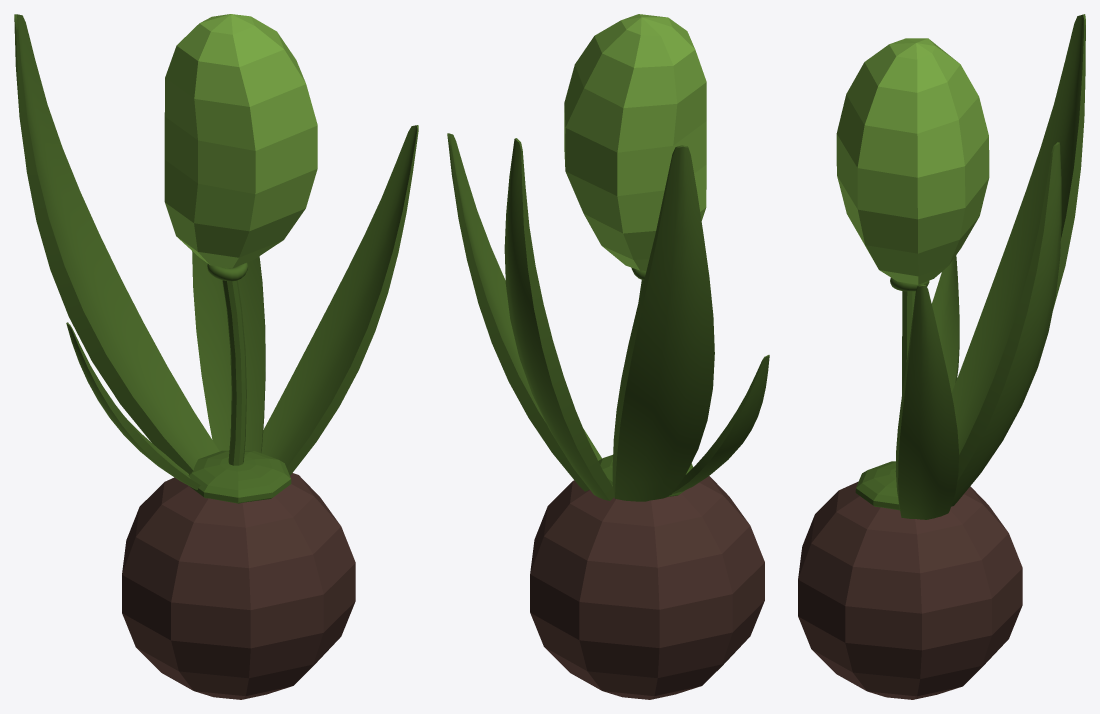
Rendered from RiceP2.fbx.
3 renders of one model, left to right at view 1: azimuth 30°, elevation 25°; view 2: azimuth 150°, elevation 25°; view 3: azimuth 270°, elevation 25°, orthographic. The views are drawn at different scales.
Visible parts, largest first — view 1: RiceP2Base, RiceP2Rice, RiceP2Leaf2, RiceP2Leaf5, RiceP2Leaf4, RiceP2Stem4, RiceP2Stem3, RiceP2Leaf3; view 2: RiceP2Base, RiceP2Rice, RiceP2Leaf2, RiceP2Leaf4, RiceP2Leaf5, RiceP2Leaf3; view 3: RiceP2Base, RiceP2Rice, RiceP2Leaf2, RiceP2Leaf5, RiceP2Leaf4, RiceP2Leaf3, RiceP2Stem4, RiceP2Stem3.
Boxes of the visible parts, x1,y1,x2,y2 form: RiceP2Base: (122,473,355,699); RiceP2Rice: (164,14,317,268); RiceP2Leaf2: (14,14,219,473); RiceP2Leaf5: (261,125,418,475); RiceP2Leaf4: (192,251,265,453); RiceP2Stem4: (188,450,291,503); RiceP2Stem3: (222,267,246,465); RiceP2Leaf3: (66,322,200,489); RiceP2Base: (530,476,764,699); RiceP2Rice: (564,14,706,270); RiceP2Leaf2: (612,145,714,501); RiceP2Leaf4: (504,138,614,500); RiceP2Leaf5: (447,133,601,491); RiceP2Leaf3: (672,355,769,493); RiceP2Base: (798,481,1022,699); RiceP2Rice: (836,38,989,284); RiceP2Leaf2: (951,14,1085,454); RiceP2Leaf5: (895,284,958,519); RiceP2Leaf4: (951,142,1061,506); RiceP2Leaf3: (932,255,959,392); RiceP2Stem4: (855,461,899,510); RiceP2Stem3: (902,291,915,394).
Bounding box in the file's own units: 2.49 × 4.76 × 1.92.
